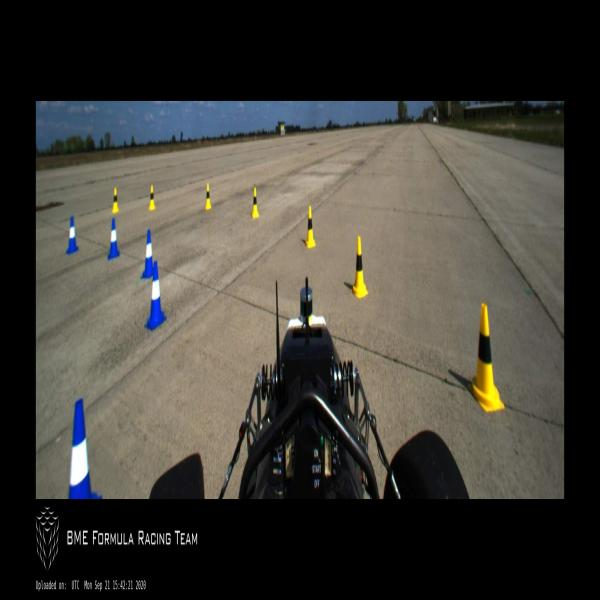blue_cone: (69, 401, 102, 498), (145, 259, 166, 331), (140, 230, 156, 278), (107, 219, 120, 260), (66, 217, 79, 255)
yellow_cone: (468, 304, 504, 412), (350, 237, 369, 297), (305, 206, 315, 248), (111, 188, 119, 214), (251, 188, 258, 216), (149, 185, 156, 210), (205, 184, 211, 210)
